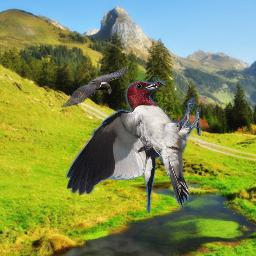Crow: (61, 66, 128, 108)
Woodpecker: (66, 77, 201, 213)
